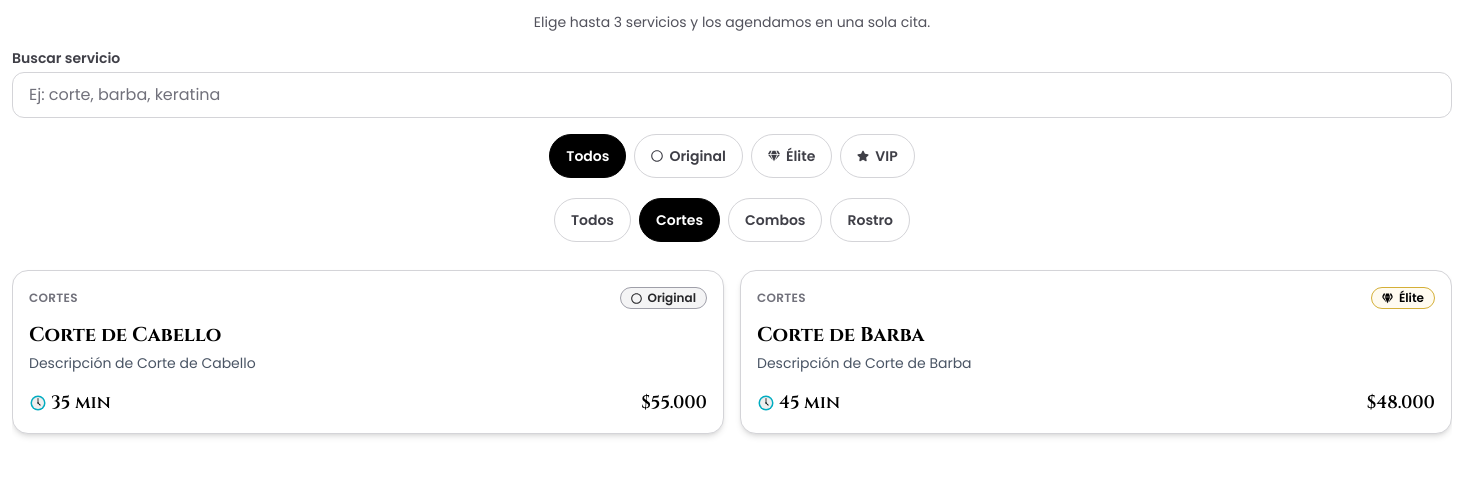
it: PasoServicio — filtros, buscador y agrupación › mientras hay texto en el buscador recorre todas las categorías; al borrarlo vuelve la elegida
Type "cejas" into the field labelled "Buscar servicio".
click(732, 95); type("cejas")  # box [12,72,1452,118]
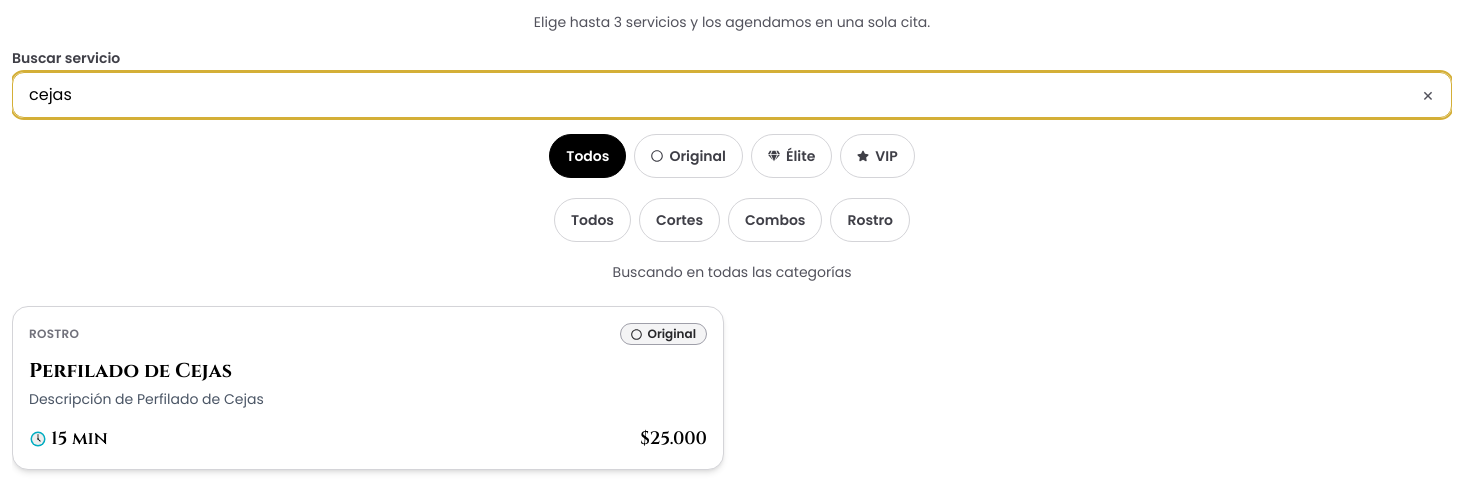
Expected: the heading "Perfilado de Cejas" is shown, [29,357,232,385]
Expected: the text "Buscando en todas las categorías" is shown, [612,262,851,282]
Click the button named "Borrar búsqueda".
click(1428, 95)  # box [1412,79,1444,111]
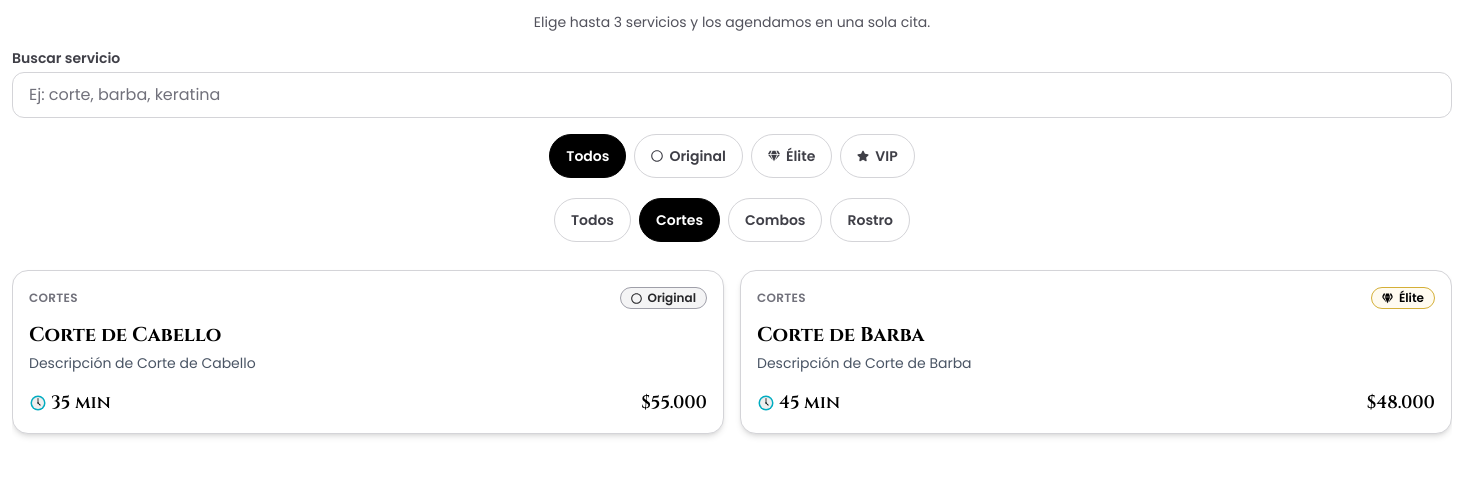
Expected: the field labelled "Buscar servicio" is empty, [12,72,1452,118]
Expected: the button "Perfilado de Cejas" is gone
Expected: the heading "Corte de Cabello" is shown, [29,321,221,349]
